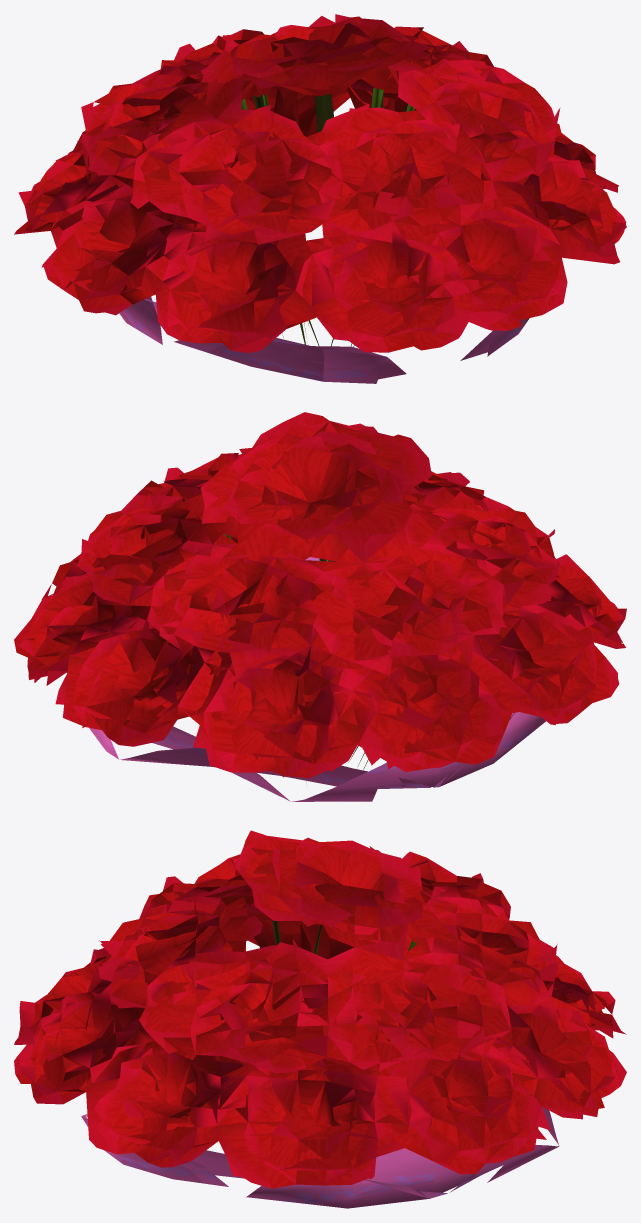
3 renders of one model, top to bottom at view 1: azimuth 30°, elevation 25°; view 2: azimuth 150°, elevation 25°; view 3: azimuth 270°, elevation 25°, orthographic.
Parts seen in each view (by area): view 1: 06242e4f; view 2: 06242e4f; view 3: 06242e4f.
Boxes of the visible parts, bbox=[...] form: 06242e4f: bbox=[14, 14, 626, 383]; 06242e4f: bbox=[14, 412, 626, 801]; 06242e4f: bbox=[14, 830, 626, 1208].
Size of the model in its own units: 0.1313 by 0.0789 by 0.131.
Materials: 3 (3 with a texture image).
